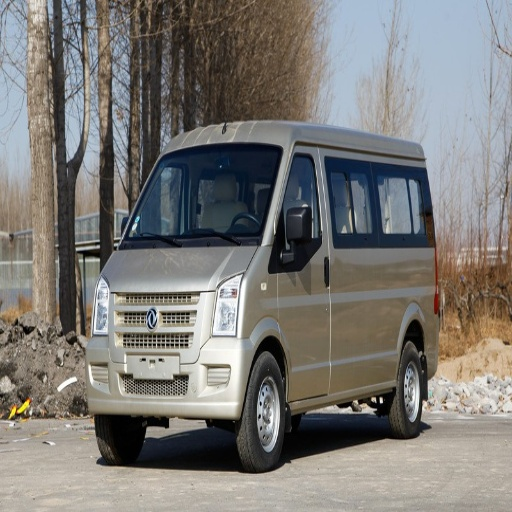front_bumper: (88, 291, 253, 415)
front_glass: (121, 144, 282, 248)
front_left_door: (277, 148, 376, 399)
trunk: (358, 252, 436, 365)
